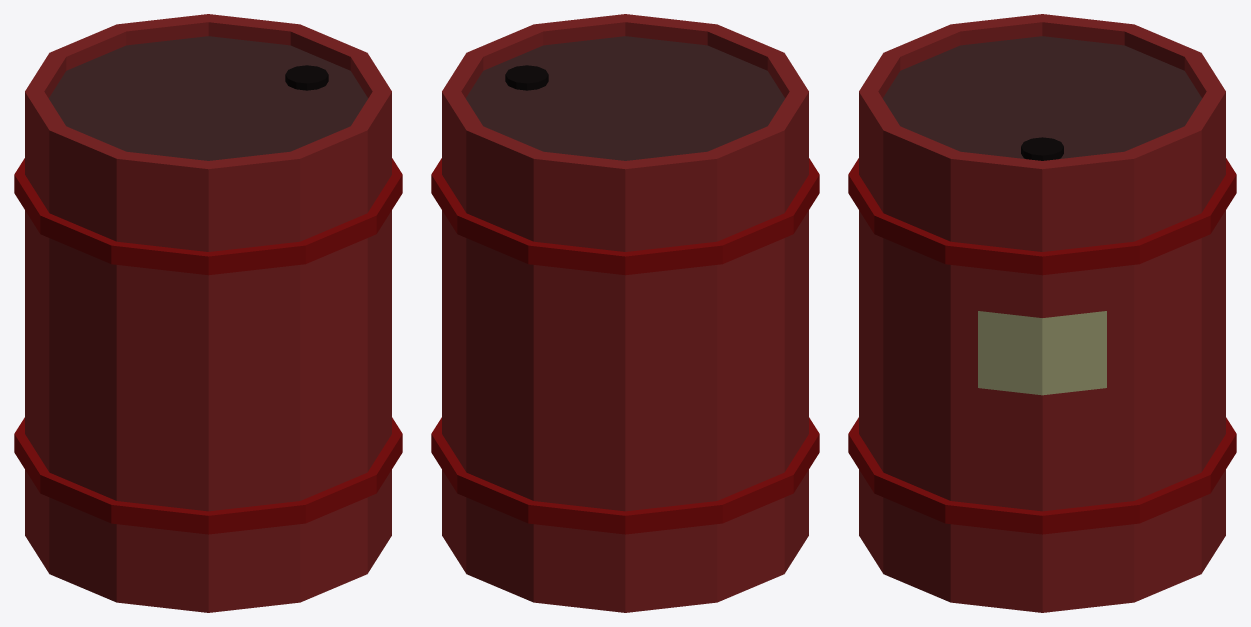
File: oilBarrel.fbx
The picture shows the model from 3 angles, left to right: view 1: azimuth 30°, elevation 25°; view 2: azimuth 150°, elevation 25°; view 3: azimuth 270°, elevation 25°; orthographic projection.
Visible parts, largest first — view 1: OilBarrel; view 2: OilBarrel; view 3: OilBarrel.
Boxes of the visible parts, x1,y1,x2,y2 form: OilBarrel: [14, 14, 402, 612]; OilBarrel: [431, 14, 819, 612]; OilBarrel: [848, 14, 1236, 612].
Bounding box in the file's own units: 198 × 250 × 198.
